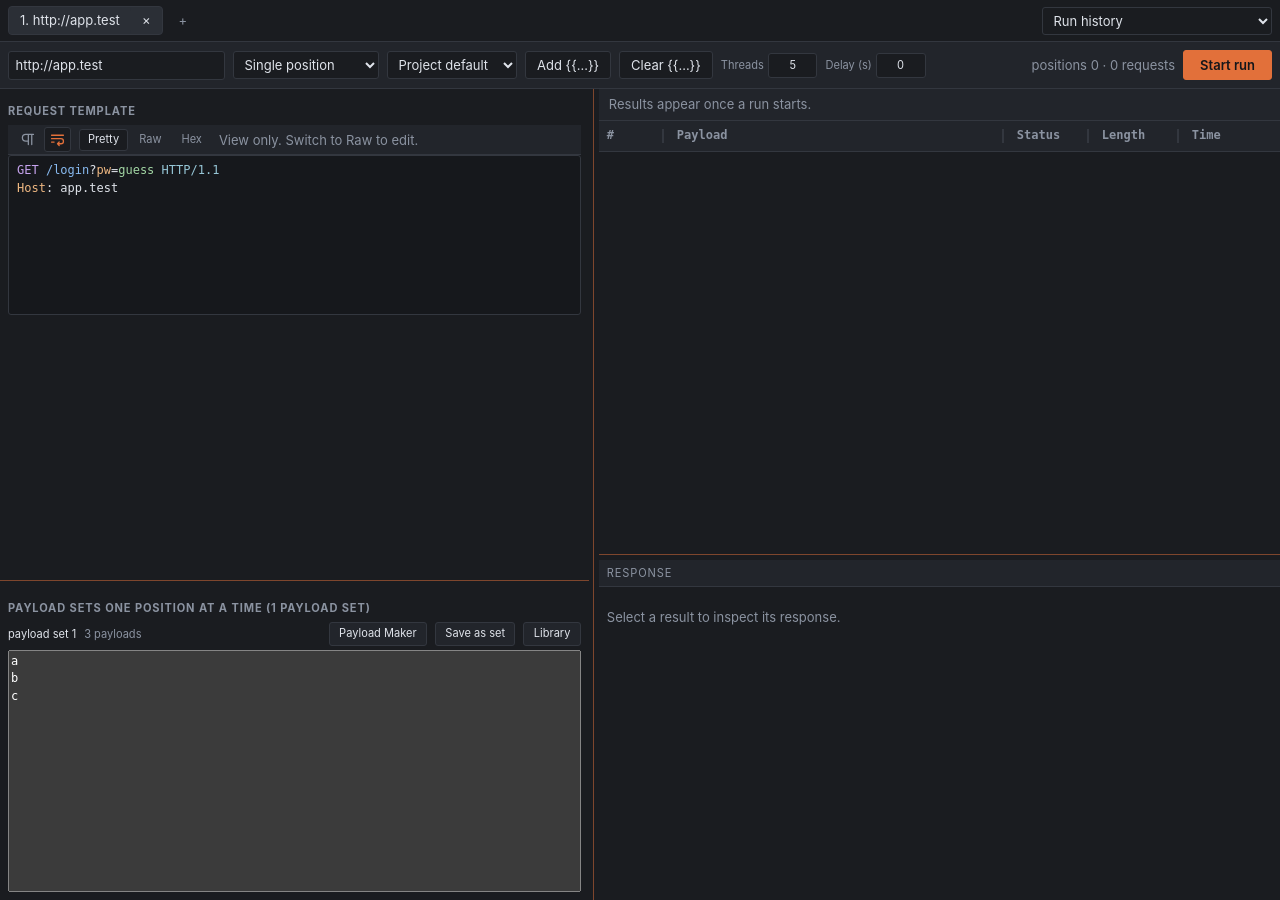
Test: FuzzerTab › renames a request tab by double-clicking its title
Double-click the button "1. http://app.test".
double_click(70, 21)  # box top-left (9, 7), bottom-right (131, 34)
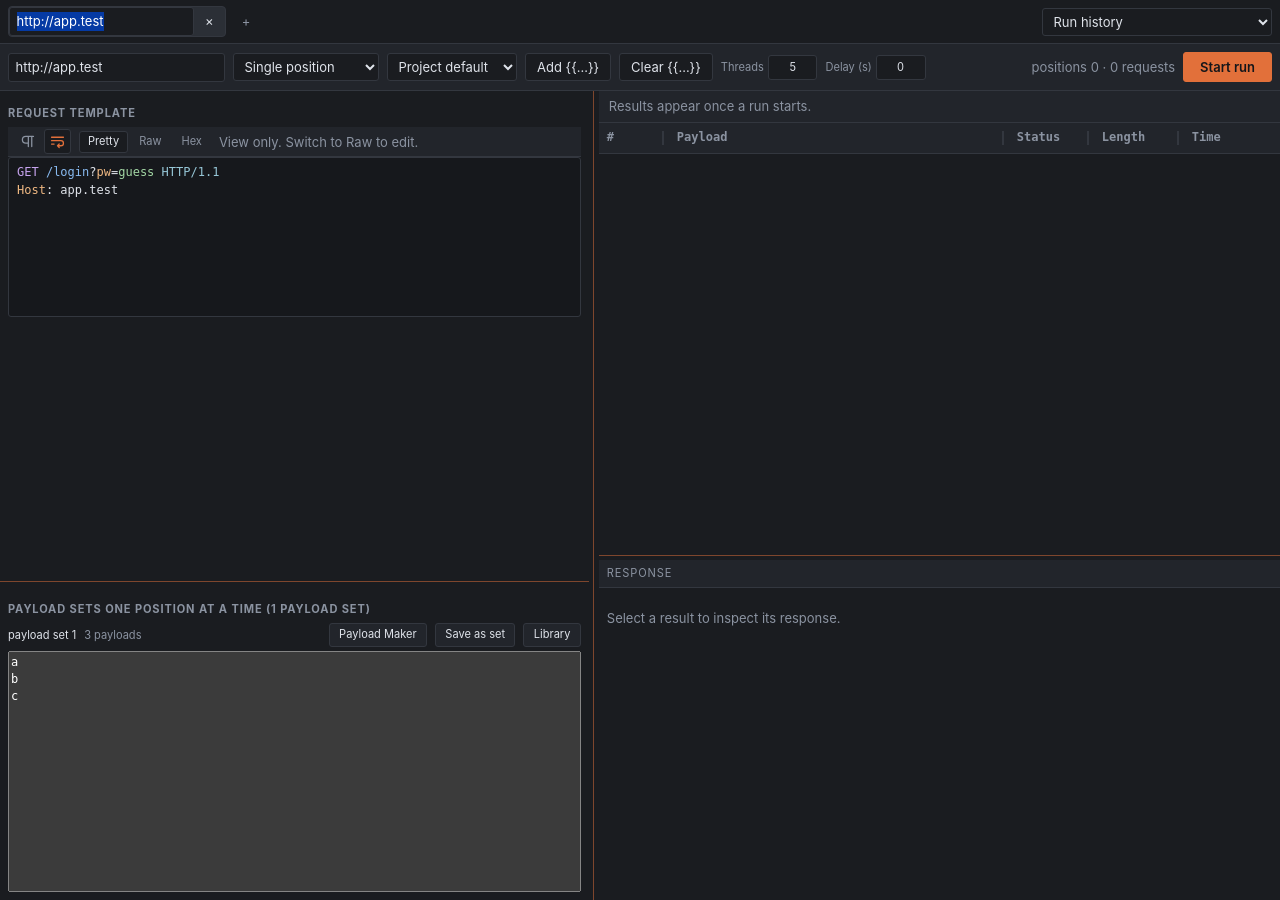
Replace the text in the field named "Rename 1. http://app.test" with "Login fuzz" at coordinates (102, 22), box top-left (9, 7), bottom-right (194, 36)
Then press Enter
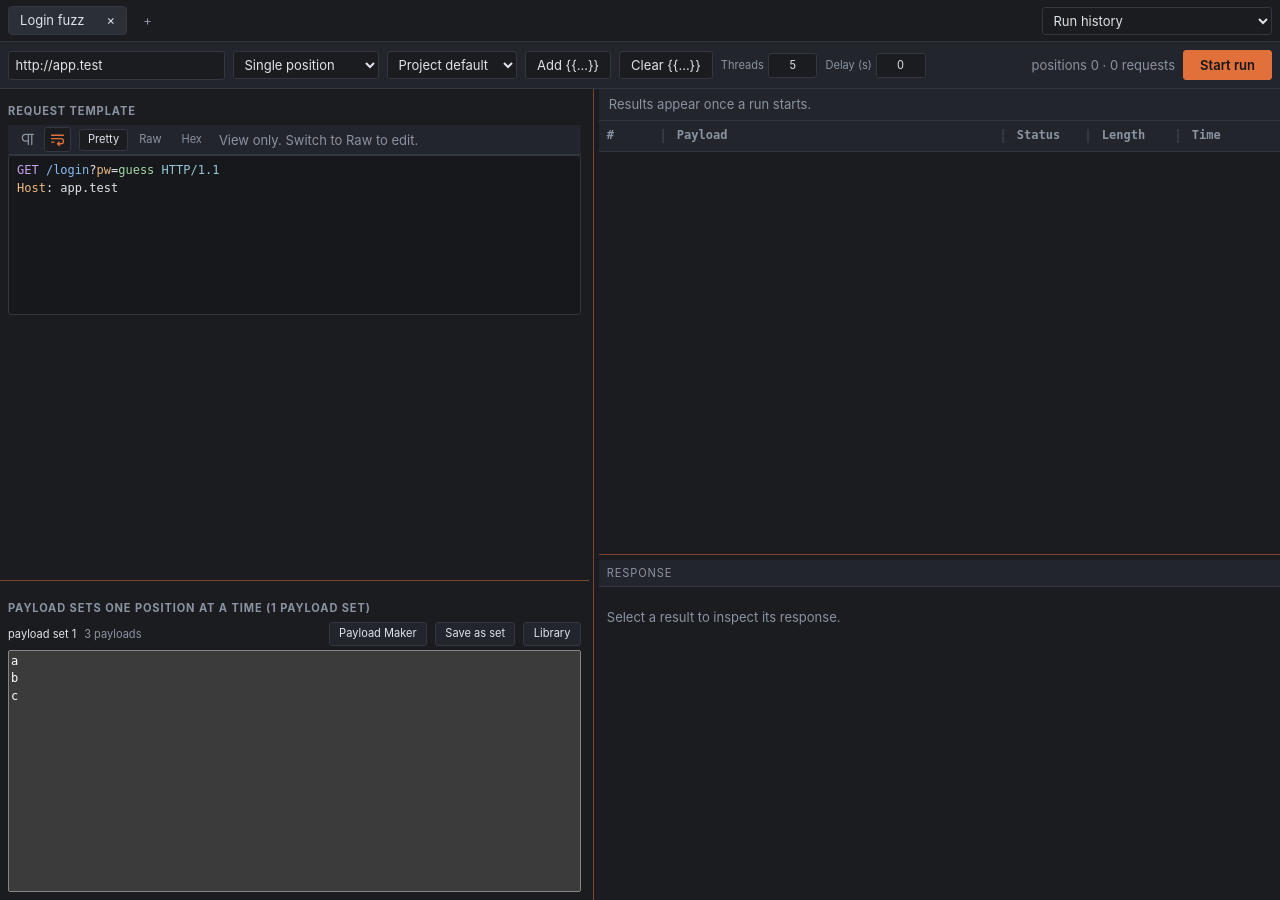
Check: the text "Login fuzz" is shown, box top-left (20, 11), bottom-right (84, 30)
